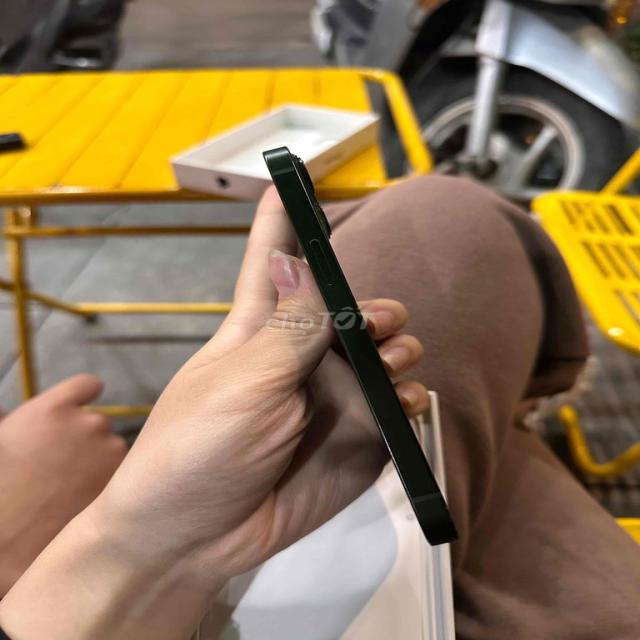gen_12_13: (258, 142, 467, 552)
